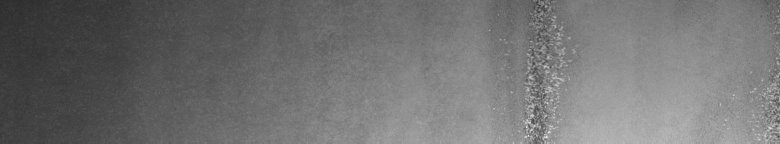hc: (500, 4, 577, 136)
